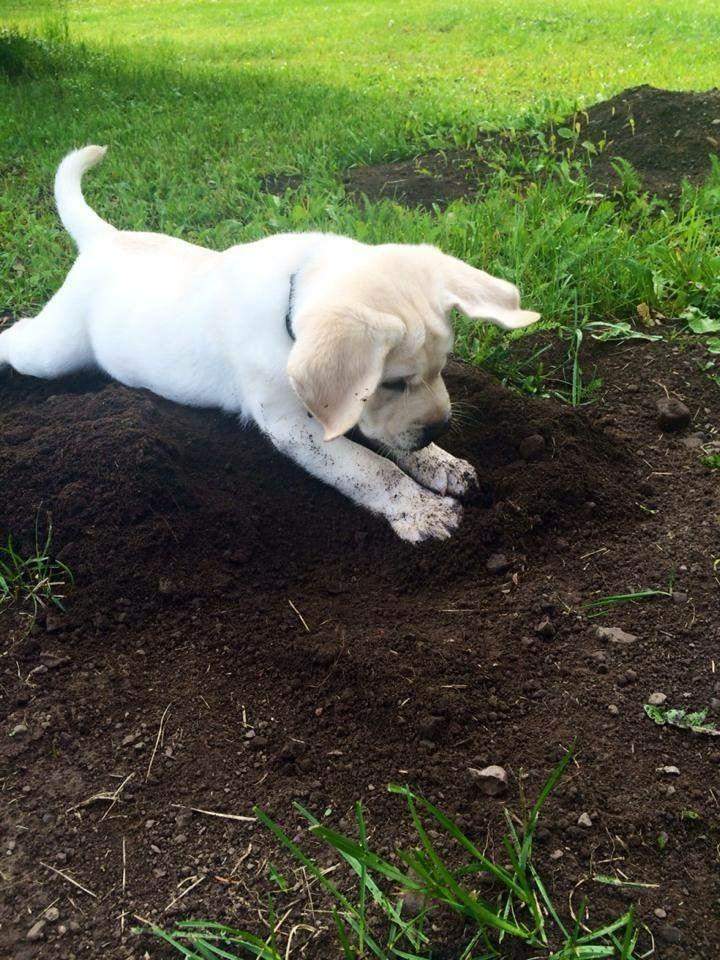puppy-dog: (0, 139, 545, 546)
